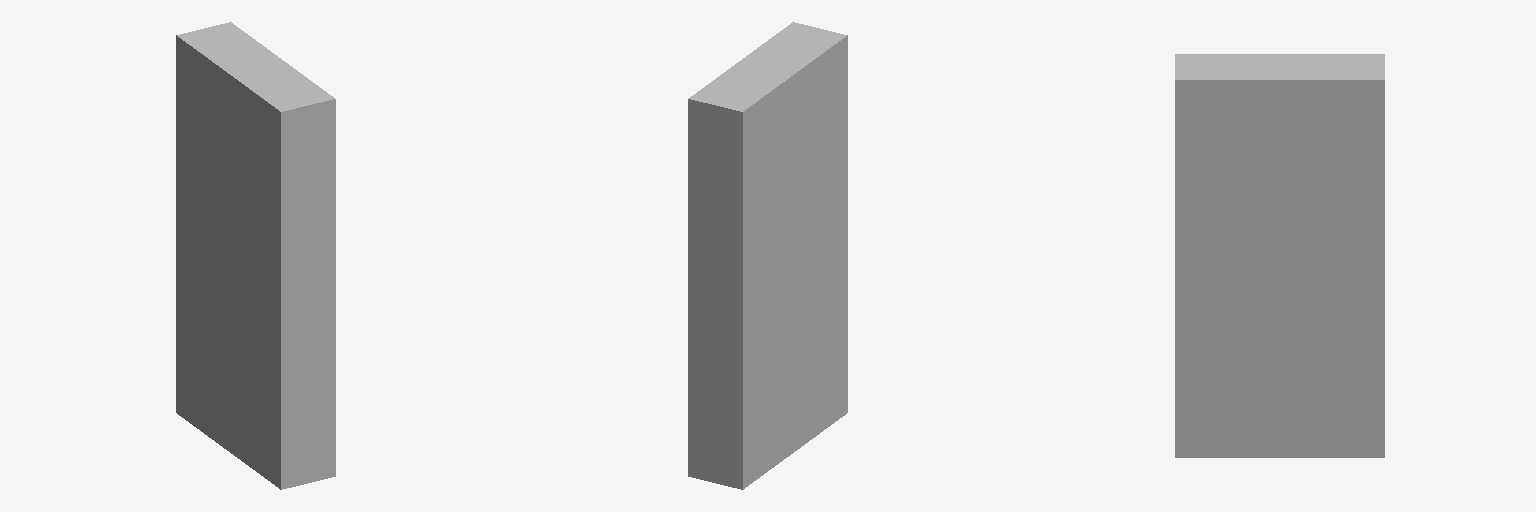
Rendered from wall_half (small).obj.
3 renders of one model, left to right at view 1: azimuth 30°, elevation 25°; view 2: azimuth 150°, elevation 25°; view 3: azimuth 270°, elevation 25°, orthographic.
Parts seen in each view (by area): view 1: wall_half (small); view 2: wall_half (small); view 3: wall_half (small).
Part boxes in pixels (x1,y1,x2,y2): wall_half (small): (176, 22, 335, 489); wall_half (small): (688, 22, 847, 489); wall_half (small): (1175, 54, 1384, 457).
Bounding box in the file's own units: 0.15 × 0.9936 × 0.5.